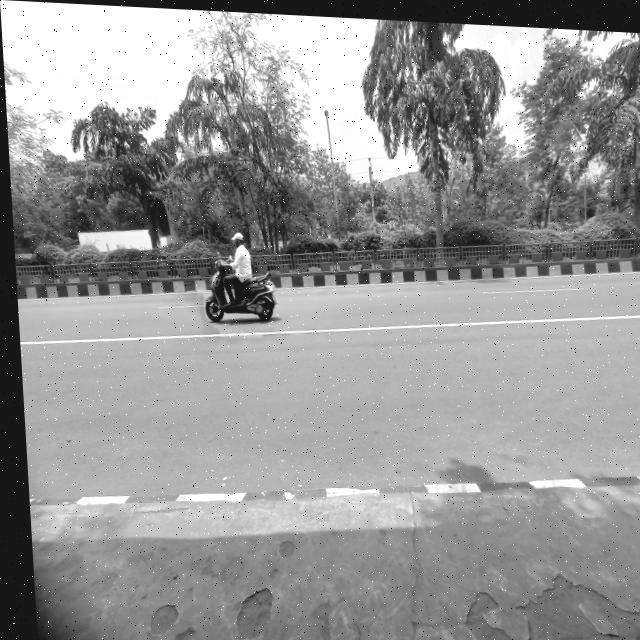bike: (194, 251, 286, 328)
